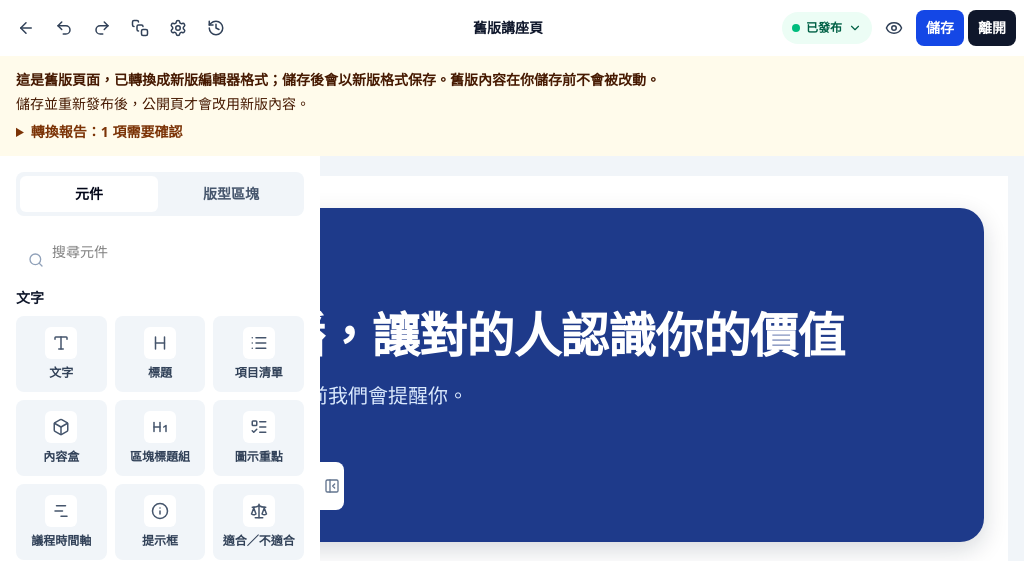
Test: opening a legacy page › saves the converted PageDocument through the normal save action and then hides the notice
What coordinates should you click on to do the following:
click the button "儲存"
I would click on:
 (940, 28)
Its box is [916,10,964,46].
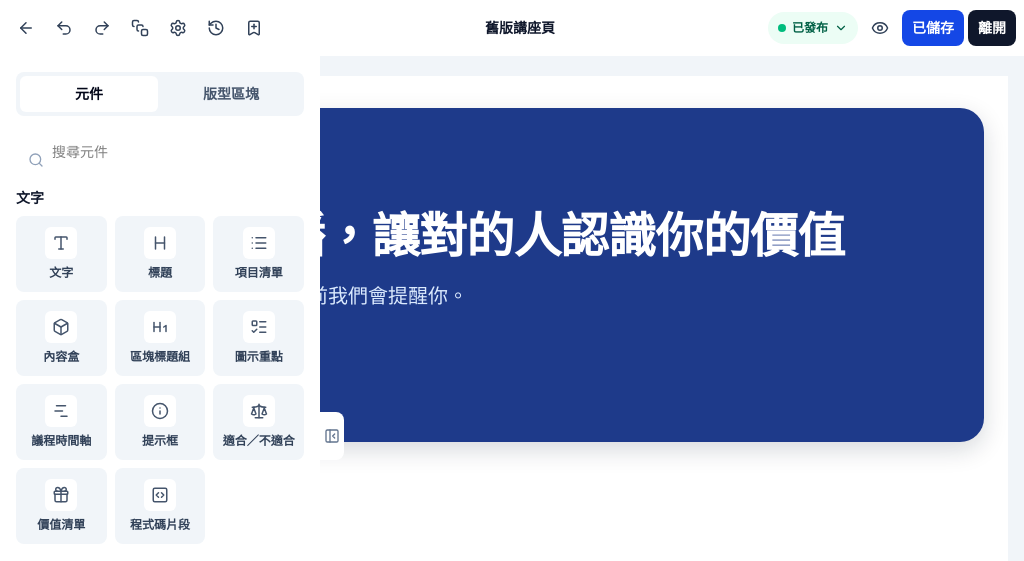
Now the element named "舊版頁面轉換說明" is gone
Now the button "已儲存" is disabled, box [902,10,964,46]
